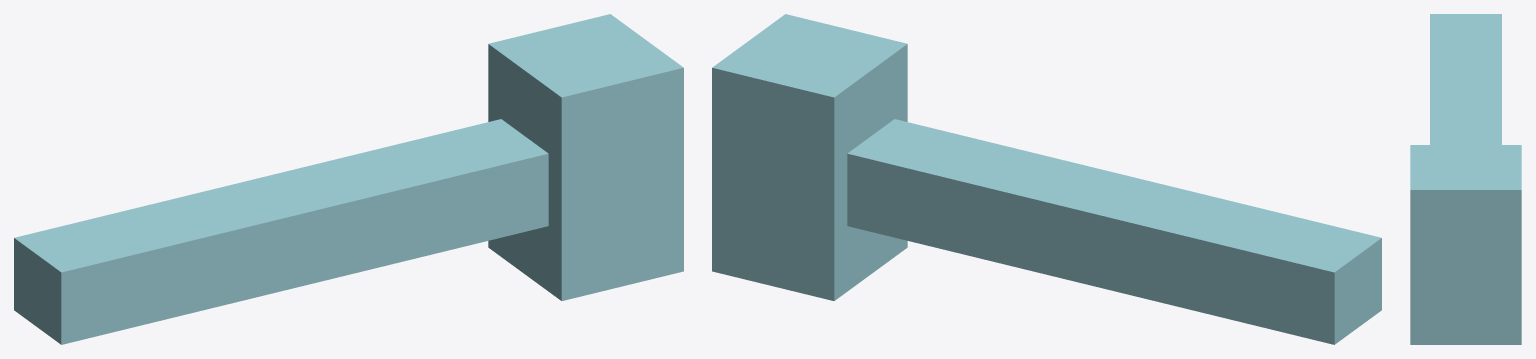
The model's file is cuboid_hammer_v014.obj.
3 views of the same model, side by side, from view 1: azimuth 30°, elevation 25°; view 2: azimuth 150°, elevation 25°; view 3: azimuth 270°, elevation 25° (orthographic). The views are drawn at different scales.
Size of the model in its own units: 0.1919 by 0.0613 by 0.04.
Materials: 1 (1 with a texture image).
